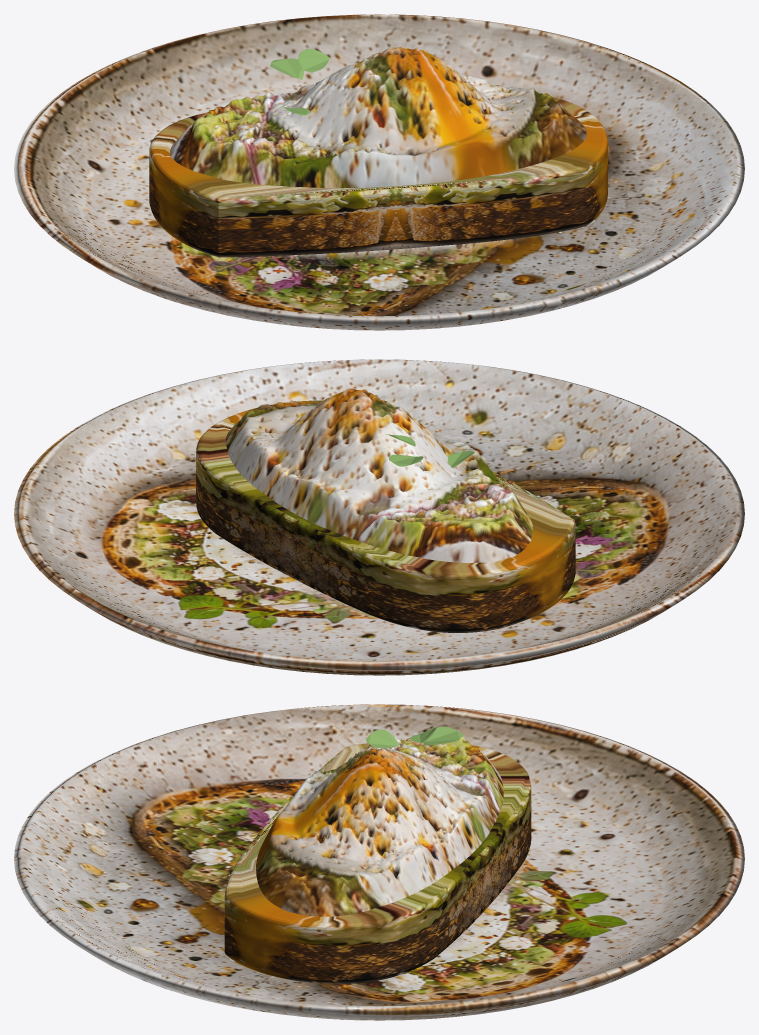
The model's file is avocado-toast.glb.
3 views of the same model, one above another, from view 1: azimuth 30°, elevation 25°; view 2: azimuth 150°, elevation 25°; view 3: azimuth 270°, elevation 25° (orthographic).
Visible parts, largest first — view 1: SpeckledCeramicCoupePlate, PhotoSculptedAvocadoAndPoachedEgg, SourdoughBlisteredCrust, SorrelMicrogreenCanopy; view 2: SpeckledCeramicCoupePlate, PhotoSculptedAvocadoAndPoachedEgg, SourdoughBlisteredCrust, SorrelMicrogreenCanopy; view 3: SpeckledCeramicCoupePlate, PhotoSculptedAvocadoAndPoachedEgg, SourdoughBlisteredCrust, SorrelMicrogreenCanopy.
Boxes of the visible parts, x1,y1,x2,y2 form: SpeckledCeramicCoupePlate: (14, 14, 744, 330); PhotoSculptedAvocadoAndPoachedEgg: (170, 46, 586, 188); SourdoughBlisteredCrust: (149, 97, 607, 257); SorrelMicrogreenCanopy: (270, 49, 329, 115); SpeckledCeramicCoupePlate: (14, 359, 744, 675); PhotoSculptedAvocadoAndPoachedEgg: (225, 388, 532, 562); SourdoughBlisteredCrust: (196, 400, 575, 632); SorrelMicrogreenCanopy: (386, 434, 474, 467); SpeckledCeramicCoupePlate: (14, 704, 744, 1020); PhotoSculptedAvocadoAndPoachedEgg: (256, 737, 503, 916); SourdoughBlisteredCrust: (224, 740, 531, 983); SorrelMicrogreenCanopy: (366, 726, 463, 748).
Size of the model in its own units: 3.48 by 0.8702 by 3.48.
4 materials, 3 textured.
